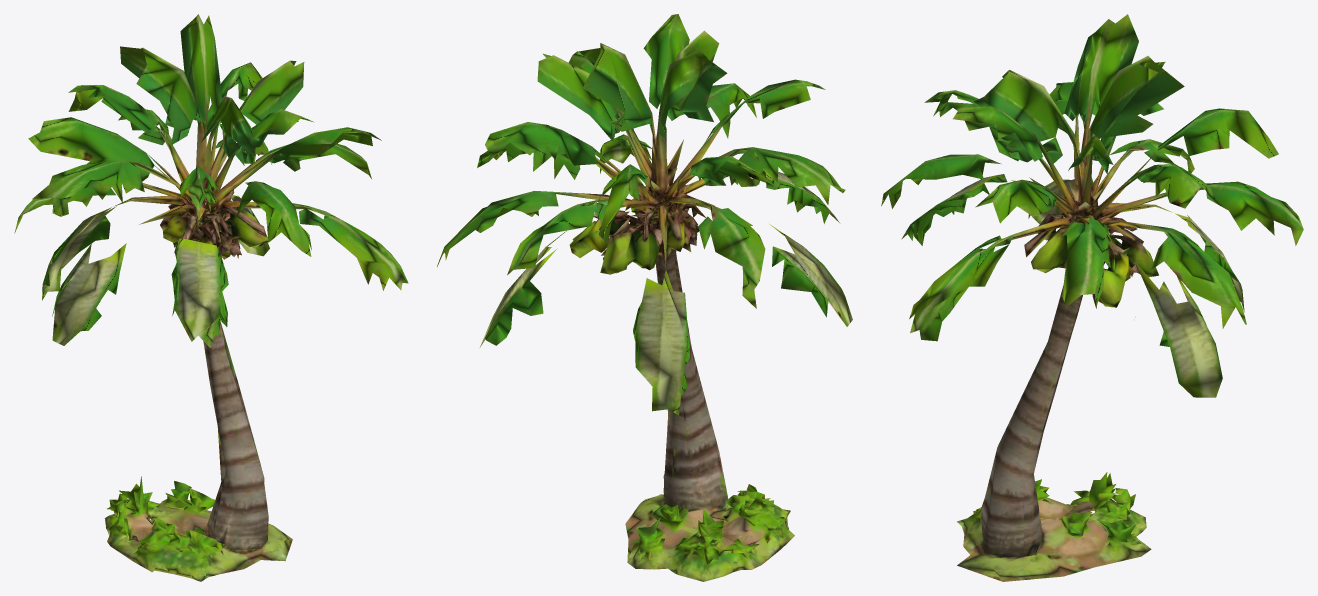
Rendered from coconut-palm.glb.
3 views of the same model, side by side, from view 1: azimuth 30°, elevation 25°; view 2: azimuth 150°, elevation 25°; view 3: azimuth 270°, elevation 25° (orthographic). The views are drawn at different scales.
Parts seen in each view (by area): view 1: geometry_0; view 2: geometry_0; view 3: geometry_0.
Part boxes in pixels (x1,y1,x2,y2): geometry_0: [14, 14, 408, 581]; geometry_0: [437, 14, 852, 581]; geometry_0: [881, 14, 1303, 581].
Size of the model in its own units: 0.7141 by 0.9992 by 0.7463.
1 material, 1 textured.
